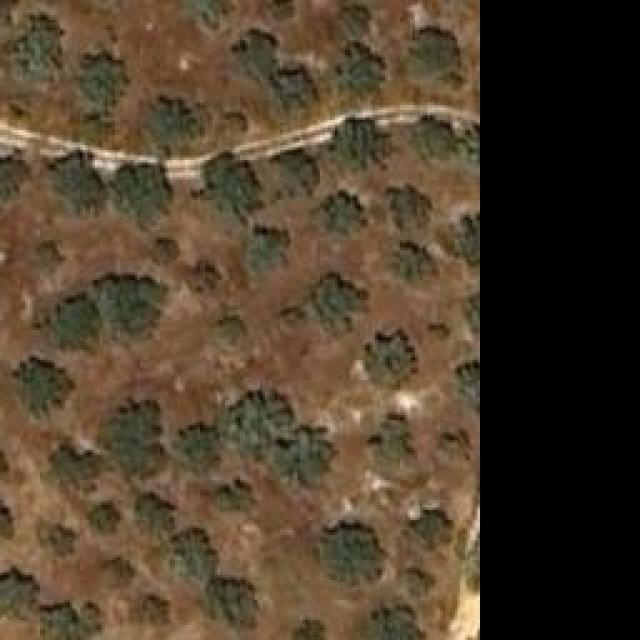Tree: (140, 95, 210, 155), (300, 273, 363, 338), (5, 25, 68, 83), (407, 23, 465, 83), (272, 427, 330, 485), (103, 273, 158, 333), (108, 405, 158, 470), (333, 118, 393, 171), (48, 160, 103, 213), (75, 55, 128, 110), (225, 390, 280, 443), (170, 423, 223, 478), (40, 443, 98, 493), (203, 573, 256, 626), (167, 525, 215, 583), (265, 68, 315, 121), (113, 167, 168, 215), (327, 525, 375, 580), (335, 45, 385, 95), (370, 413, 420, 463), (50, 298, 98, 348), (368, 335, 413, 388), (235, 28, 280, 78), (400, 508, 450, 553), (13, 357, 58, 405), (270, 147, 315, 195), (385, 180, 430, 228), (410, 112, 455, 160), (210, 160, 253, 210), (40, 602, 93, 640), (395, 235, 433, 285), (0, 568, 35, 621), (252, 225, 290, 273), (375, 607, 430, 640), (323, 193, 363, 236), (0, 150, 31, 203), (453, 207, 479, 266), (133, 492, 173, 530), (215, 477, 253, 515), (185, 258, 223, 293), (215, 312, 250, 350), (455, 360, 481, 411), (85, 500, 120, 535), (440, 428, 473, 465), (28, 240, 62, 274), (147, 235, 181, 269), (335, 5, 370, 38), (43, 525, 78, 555), (100, 553, 135, 583), (292, 617, 327, 640)
